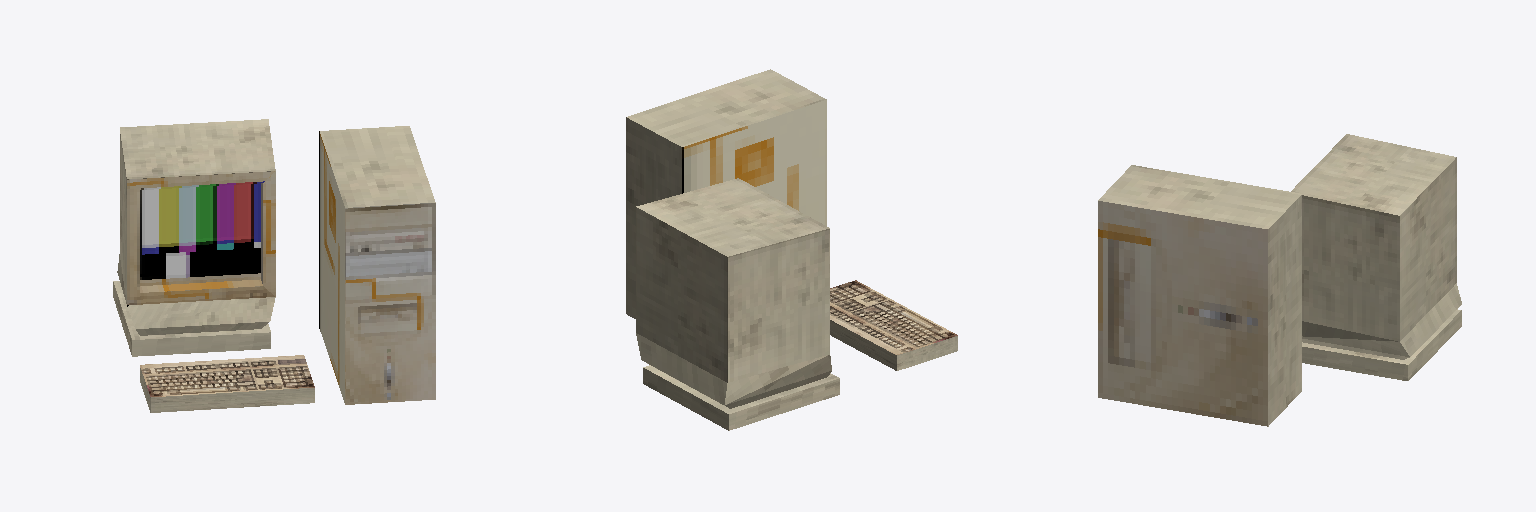
The picture shows the model from 3 angles: view 1: azimuth 30°, elevation 25°; view 2: azimuth 150°, elevation 25°; view 3: azimuth 270°, elevation 25°; orthographic projection.
Visible parts, largest first — view 1: pc; view 2: pc; view 3: pc.
Boxes of the visible parts, x1,y1,x2,y2 form: pc: [113, 119, 435, 412]; pc: [626, 69, 957, 430]; pc: [1098, 134, 1461, 426].
Size of the model in its own units: 1.31 by 0.8334 by 1.4.
Materials: 1 (1 with a texture image).